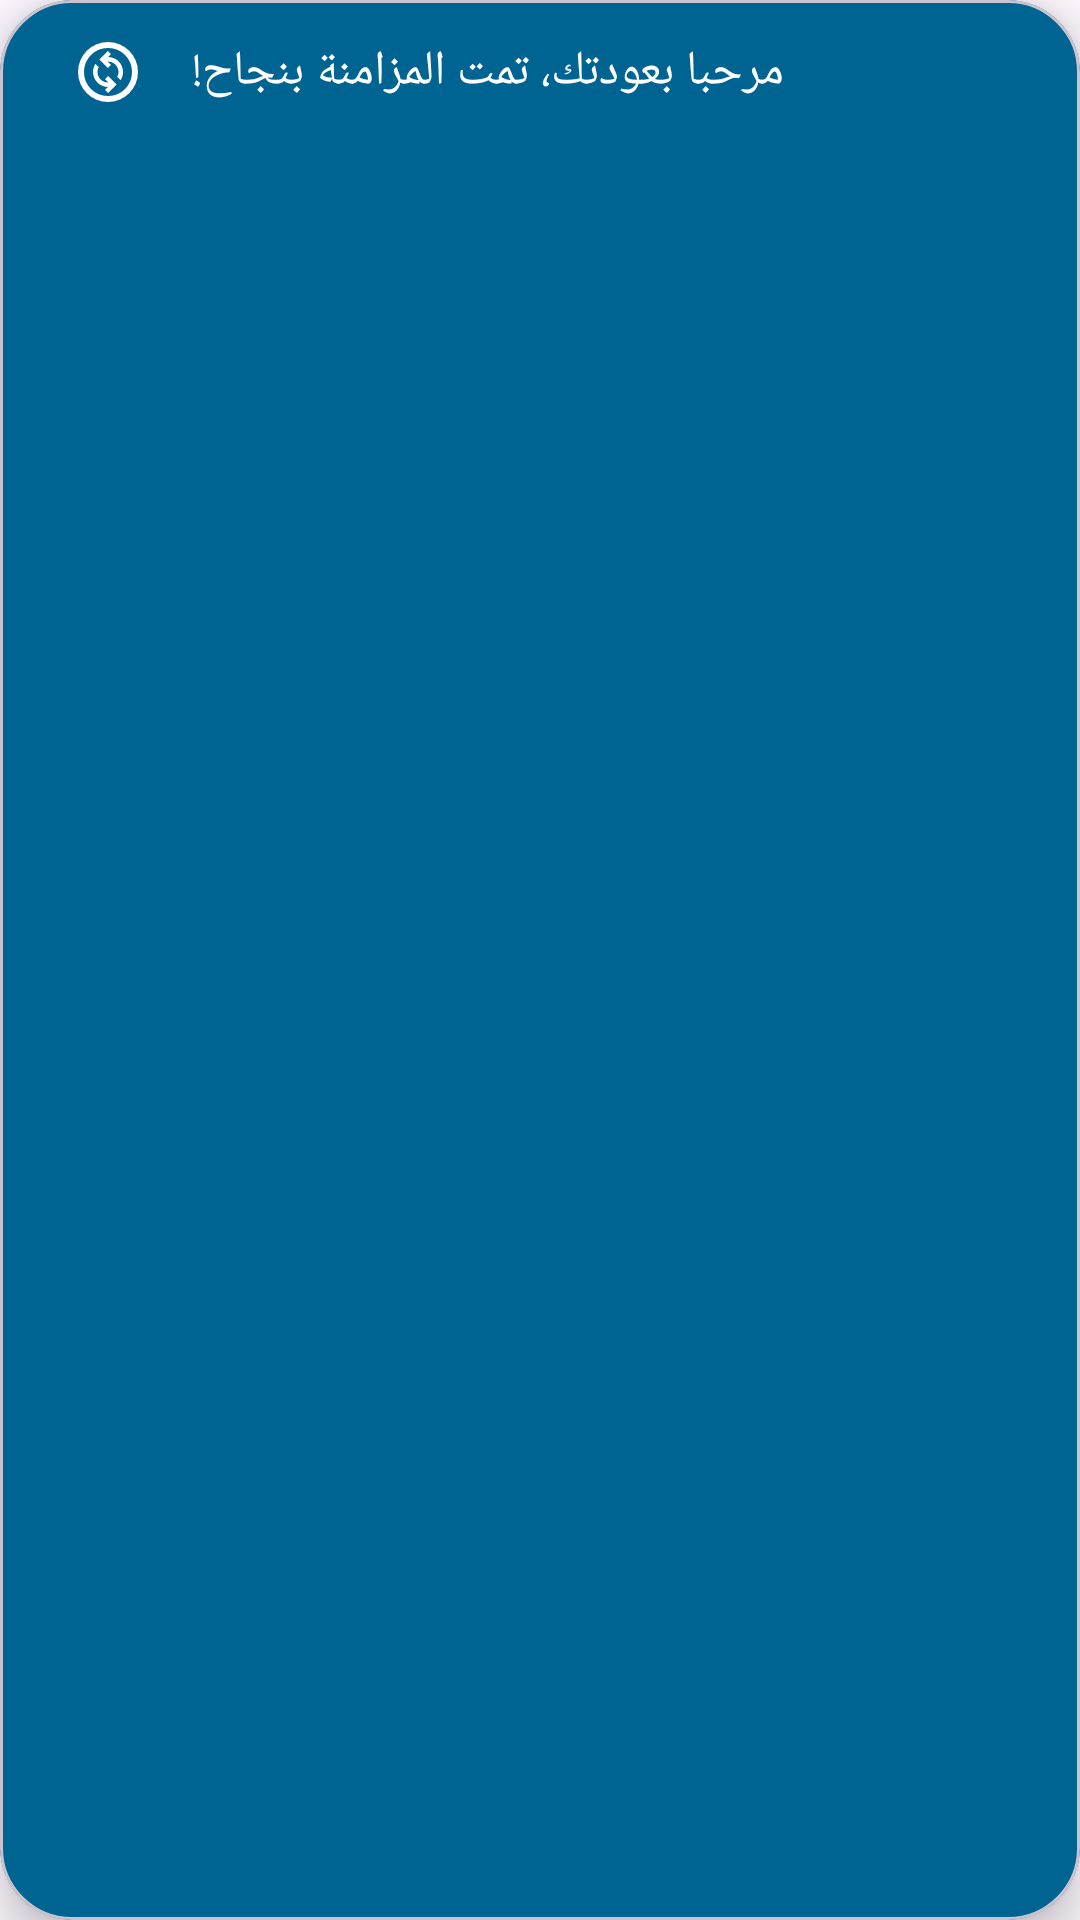

Screen size 1080x1920. Icon name, then its center in pixels as (x=x, y=y):
sync: (x=108, y=72)
